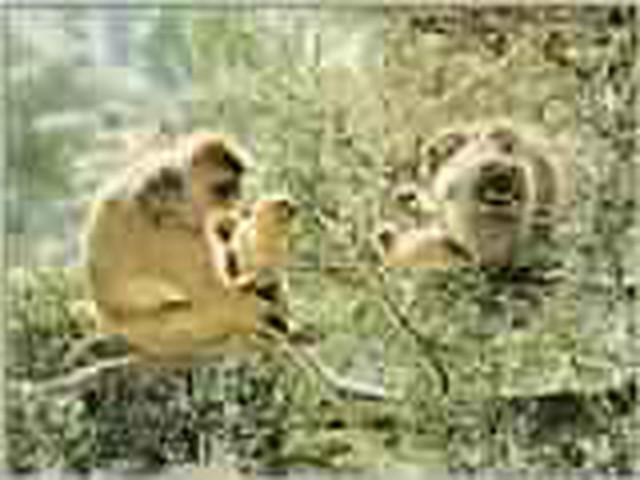Monkey: (80, 124, 302, 360), (377, 120, 570, 257)
